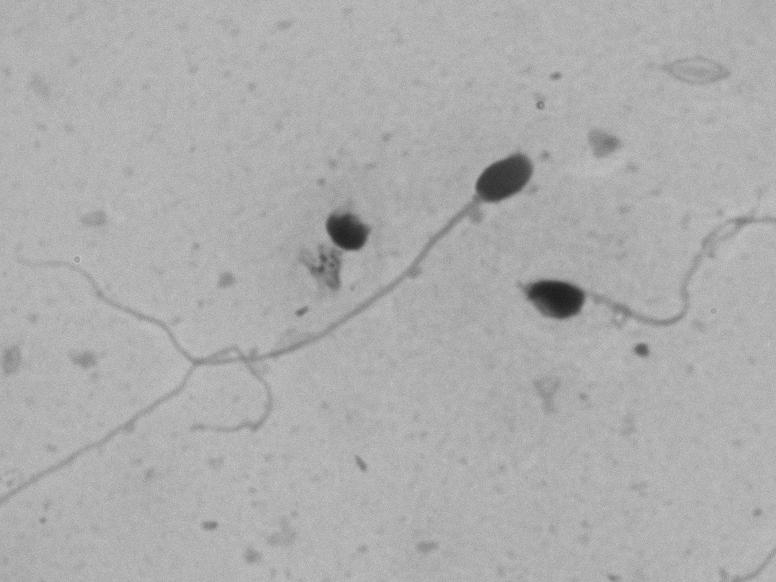Abnormal: (502, 222, 762, 386)
Normal: (10, 132, 543, 378)
